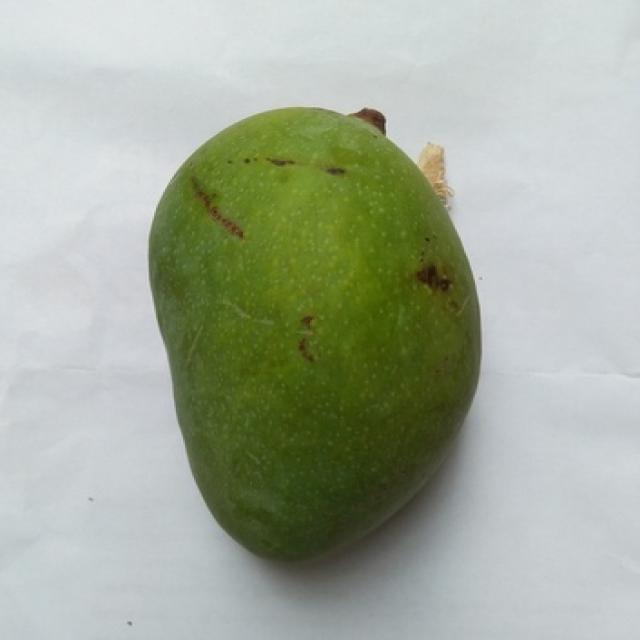Mango: (150, 107, 479, 558)
